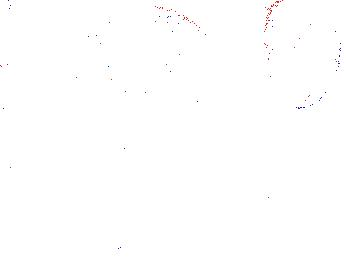moon jellyfish: (265, 1, 340, 109), (98, 8, 209, 74), (12, 1, 132, 42), (1, 5, 39, 98)
